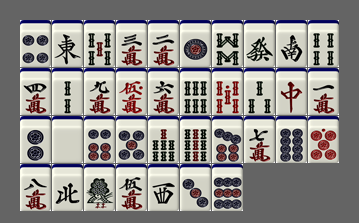0m: (116, 68, 147, 115)
0p: (308, 116, 339, 163)
0s: (212, 68, 243, 115)
1m: (308, 68, 339, 115)
1p: (180, 20, 211, 67)
1s: (84, 164, 115, 211)
1z: (52, 20, 83, 67)
2m: (148, 20, 179, 67)
2p: (20, 116, 51, 163)
2s: (52, 68, 83, 115)
2z: (276, 20, 307, 67)
3m: (116, 20, 147, 67)
3p: (180, 164, 211, 211)
3s: (244, 68, 275, 115)
3z: (148, 164, 179, 211)
4m: (20, 68, 51, 115)
4p: (20, 20, 51, 67)
4s: (308, 20, 339, 67)
4z: (52, 164, 83, 211)
5m: (116, 164, 147, 211)
5p: (116, 116, 147, 163)
5s: (84, 20, 115, 67)
5z: (52, 116, 83, 163)
6m: (148, 68, 179, 115)
6p: (84, 116, 115, 163)
6s: (180, 68, 211, 115)
6z: (244, 20, 275, 67)
7m: (244, 116, 275, 163)
7p: (212, 116, 243, 163)
7s: (148, 116, 179, 163)
7z: (276, 68, 307, 115)
8m: (20, 164, 51, 211)
8p: (276, 116, 307, 163)
8s: (212, 20, 243, 67)
9m: (84, 68, 115, 115)
9p: (212, 164, 243, 211)
9s: (180, 116, 211, 163)
